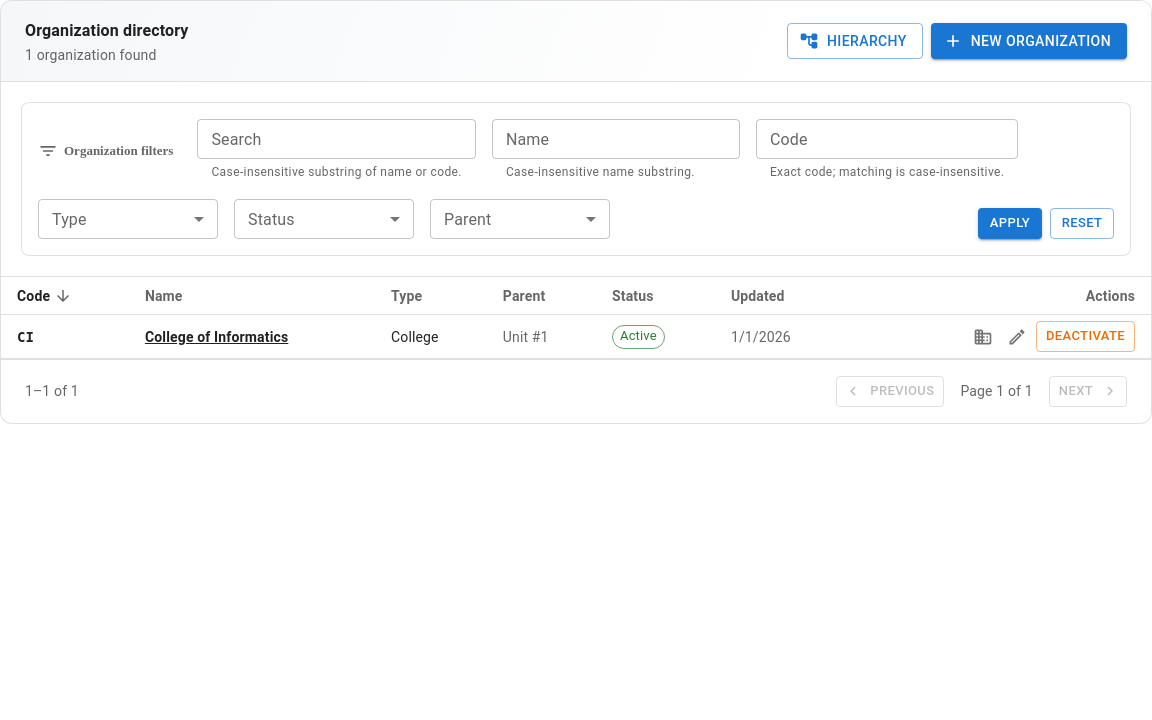
it: OrganizationsList — lifecycle actions › closes without writing when the confirmation is cancelled
What coordinates should you click on to do the following:
click the button "Deactivate"
I would click on:
 (1086, 337)
Its box is [1036,321,1135,352].
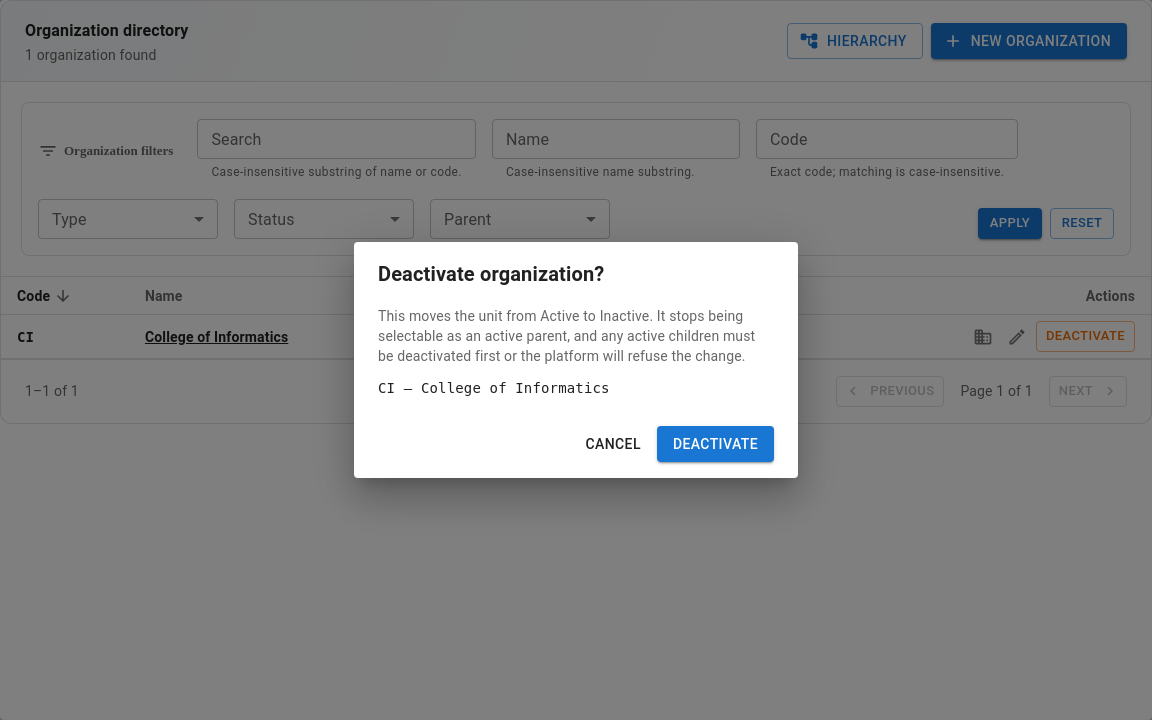
Now the dialog is shown, box [354,242,798,478]
What coordinates should you click on to do the following:
click the button "Cancel"
I would click on:
 (613, 444)
Its box is [577,426,649,462].
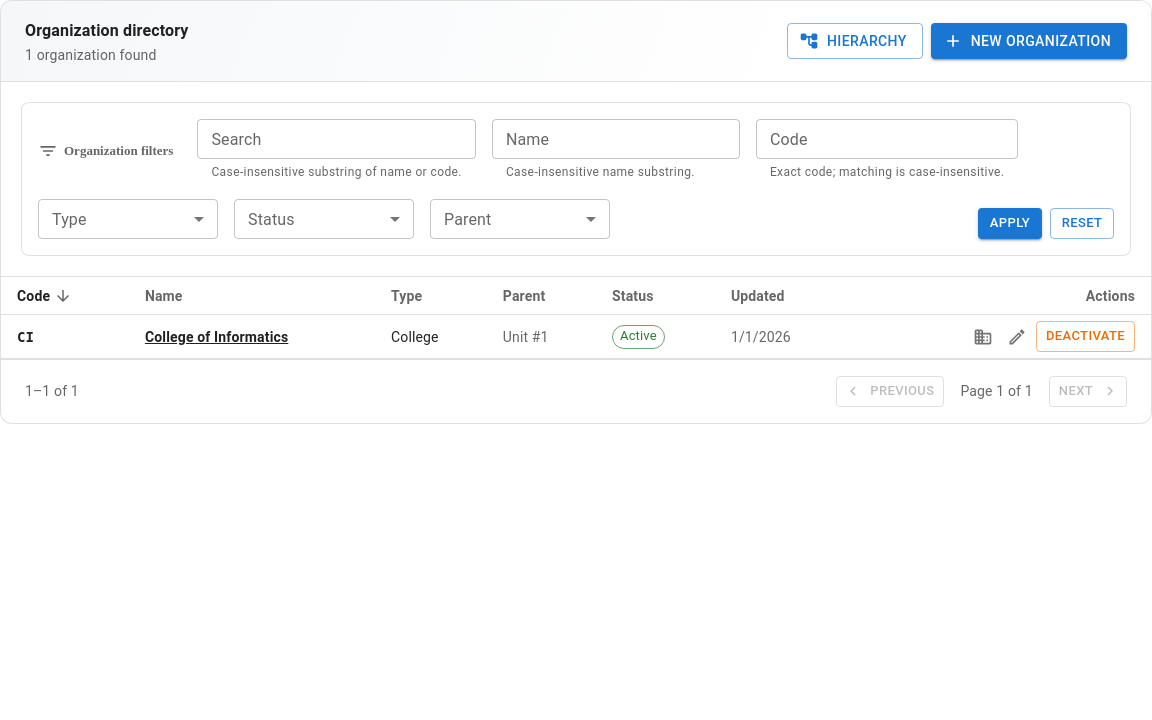
Now the dialog is gone
